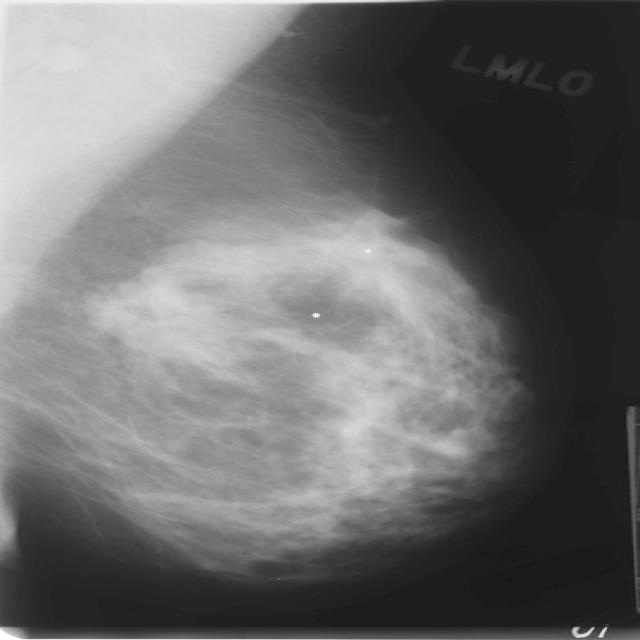tumour: (93, 274, 232, 362)
